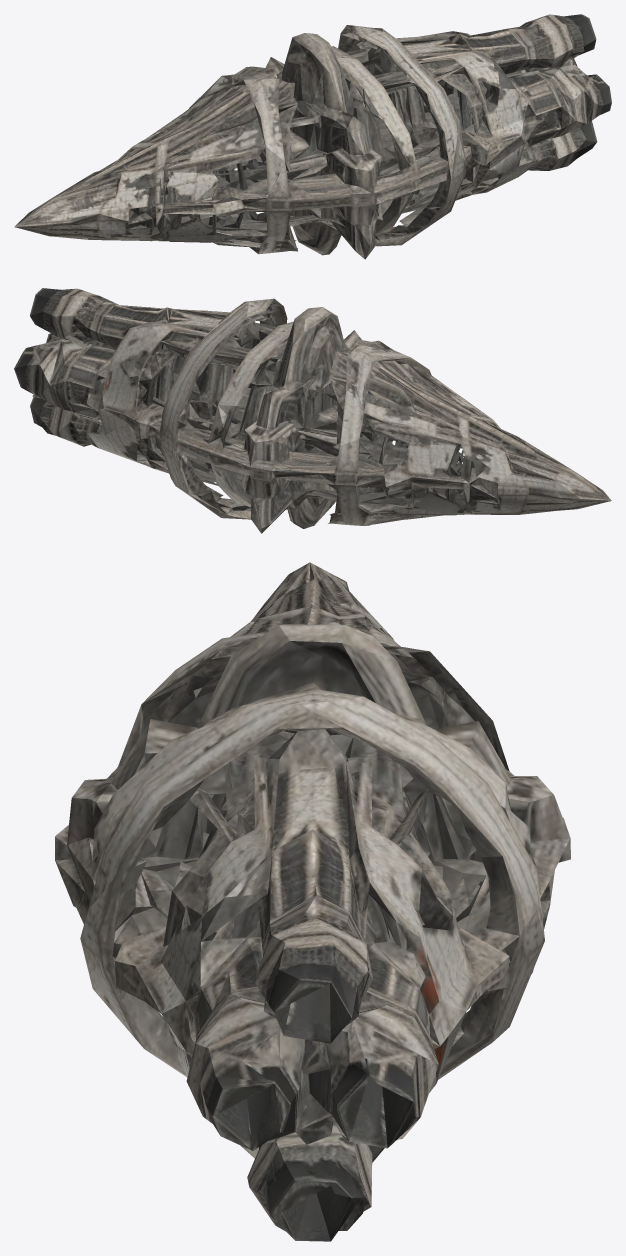
Rendered from monument_shattered_world_ship.glb.
The picture shows the model from 3 angles, top to bottom: view 1: azimuth 30°, elevation 25°; view 2: azimuth 150°, elevation 25°; view 3: azimuth 270°, elevation 25°; orthographic projection. The views are drawn at different scales.
Parts seen in each view (by area): view 1: output_unwrapped; view 2: output_unwrapped; view 3: output_unwrapped.
Part boxes in pixels (bbox=[...]): output_unwrapped: bbox=[14, 14, 611, 259]; output_unwrapped: bbox=[14, 288, 611, 533]; output_unwrapped: bbox=[55, 562, 570, 1241].
Bounding box in the file's own units: 1.9 × 0.6808 × 0.7395.
Materials: 1 (1 with a texture image).
